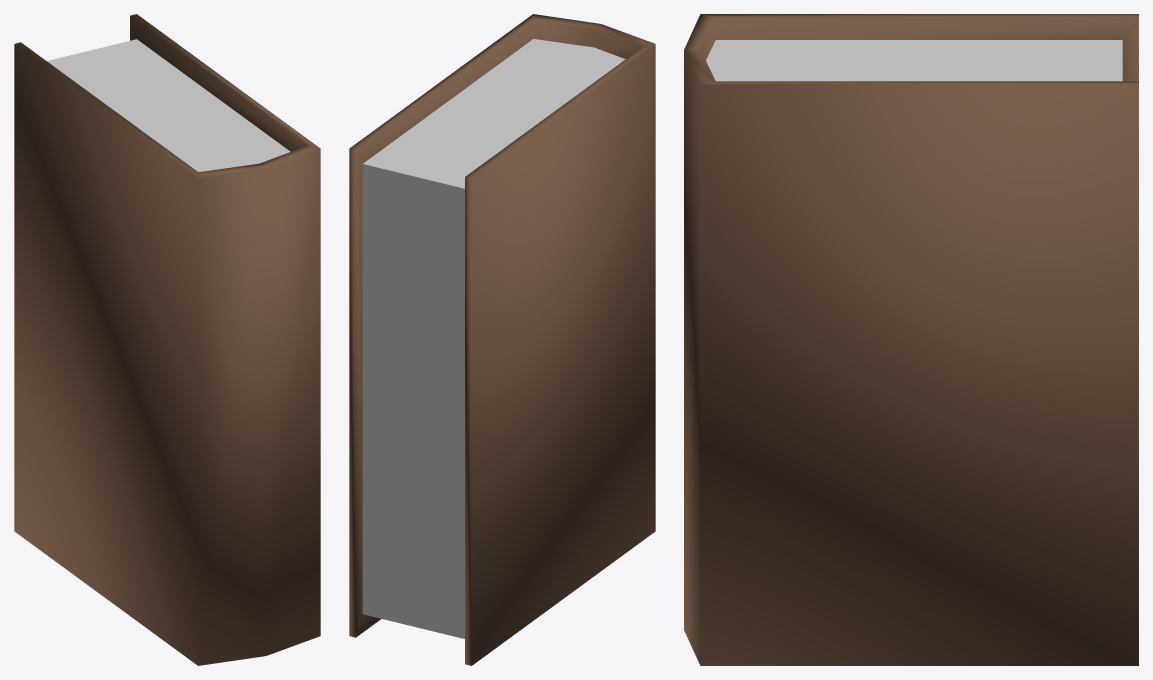
Rendered from Brown_book.dae.
3 views of the same model, side by side, from view 1: azimuth 30°, elevation 25°; view 2: azimuth 150°, elevation 25°; view 3: azimuth 270°, elevation 25° (orthographic). The views are drawn at different scales.
Parts seen in each view (by area): view 1: Book_Brown_medium; view 2: Book_Brown_medium; view 3: Book_Brown_medium.
Part boxes in pixels (x1,y1,x2,y2): Book_Brown_medium: [14, 14, 320, 665]; Book_Brown_medium: [349, 14, 655, 665]; Book_Brown_medium: [684, 14, 1138, 665].
Size of the model in its own units: 0.05 by 0.1348 by 0.19.
